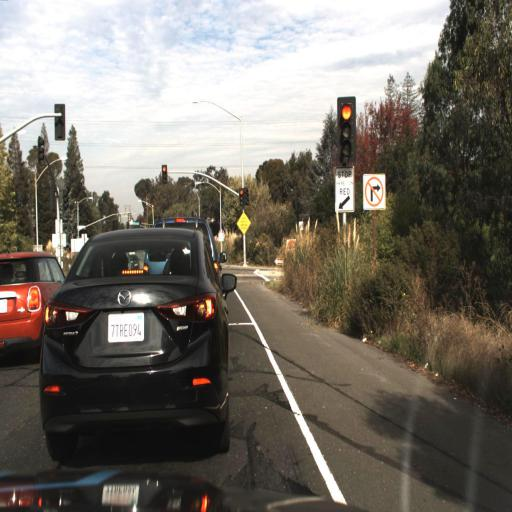car: (32, 223, 236, 452), (0, 238, 70, 369)
trafficLight-Red: (328, 74, 365, 190), (335, 96, 358, 168), (156, 155, 170, 191), (235, 180, 247, 216), (160, 162, 169, 188), (238, 186, 246, 208)
